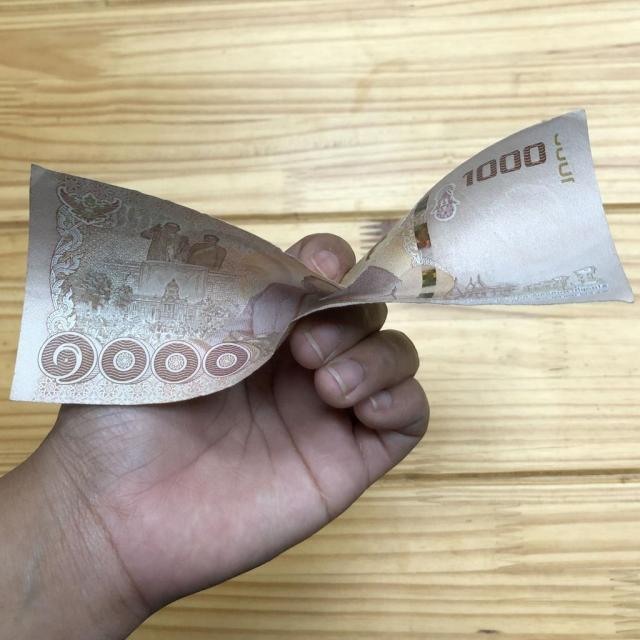THAI1000: (9, 111, 636, 408)
